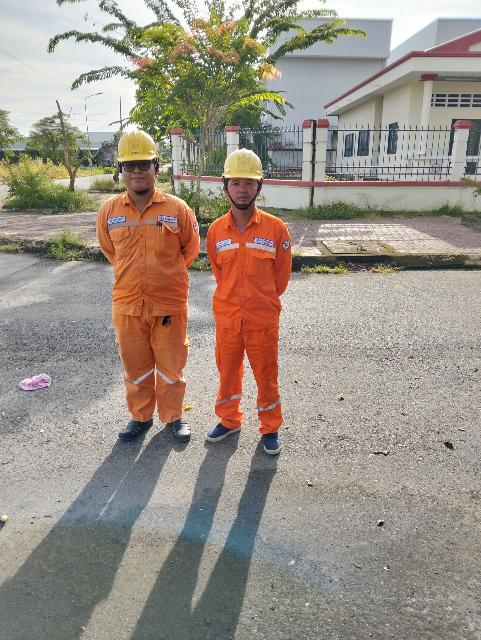helmet: (212, 143, 280, 189), (111, 120, 161, 173)
shoes: (111, 413, 162, 443), (163, 411, 201, 448), (253, 427, 291, 461), (204, 418, 247, 444)
